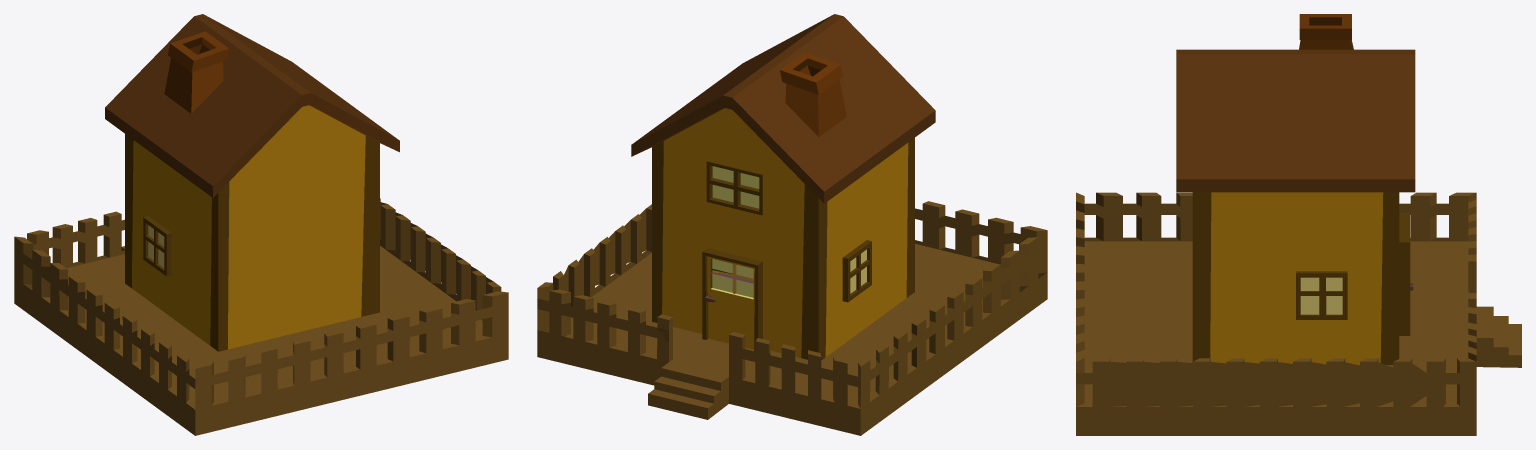
File: turuncu ev.fbx
The picture shows the model from 3 angles, left to right: view 1: azimuth 30°, elevation 25°; view 2: azimuth 150°, elevation 25°; view 3: azimuth 270°, elevation 25°; orthographic projection. The views are drawn at different scales.
Parts seen in each view (by area): view 1: Cube.002; view 2: Cube.002; view 3: Cube.002.
Boxes of the visible parts, <box> form: Cube.002: <box>14,14,508,435</box>; Cube.002: <box>537,14,1047,435</box>; Cube.002: <box>1076,14,1521,435</box>.
Bounding box in the file's own units: 1268 × 1088 × 1411.
